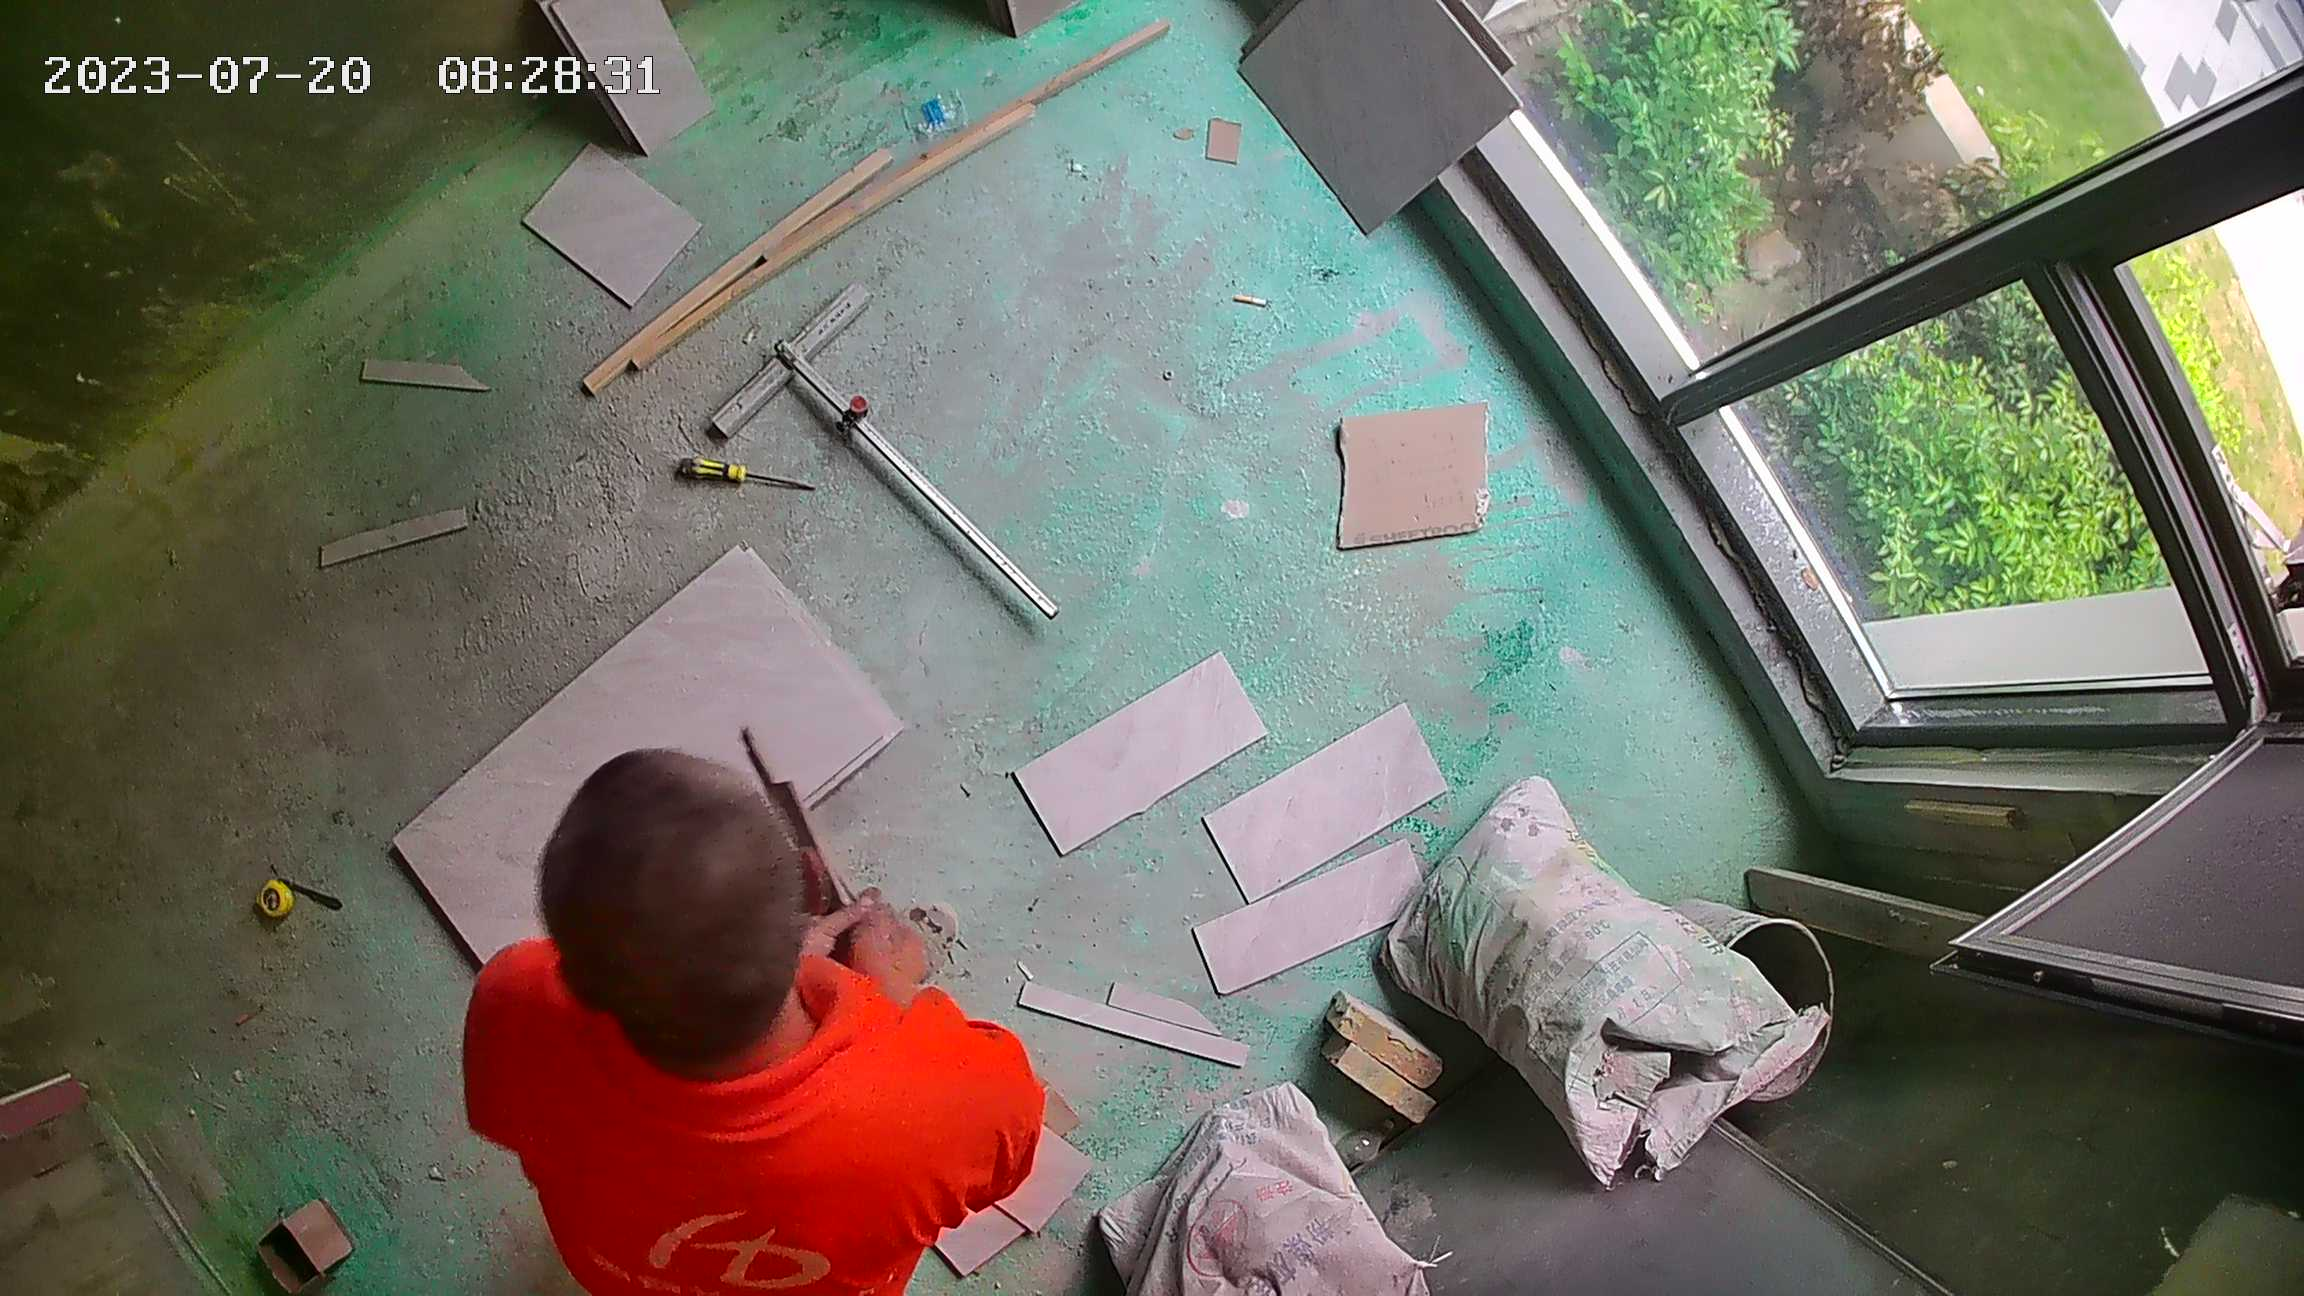people: (462, 747, 1051, 1295)
window: (1411, 1, 2304, 694)
